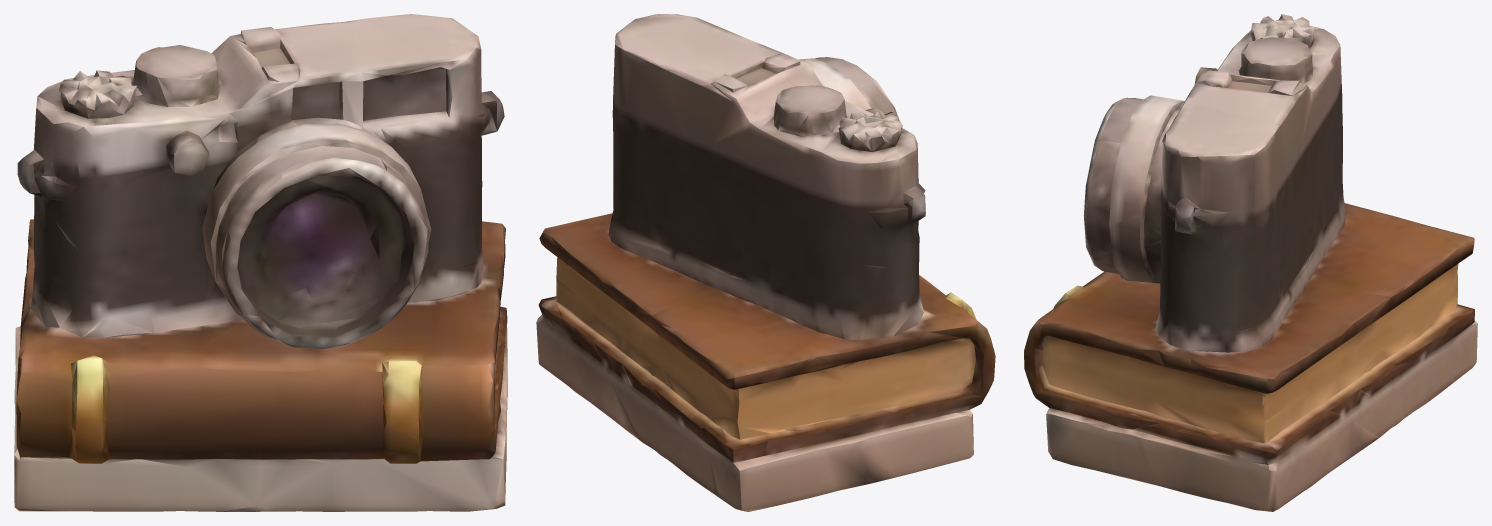
Rendered from deco30.glb.
3 views of the same model, side by side, from view 1: azimuth 30°, elevation 25°; view 2: azimuth 150°, elevation 25°; view 3: azimuth 270°, elevation 25° (orthographic). The views are drawn at different scales.
Bounding box in the file's own units: 0.2251 × 0.1667 × 0.2053.
Materials: 1 (1 with a texture image).
